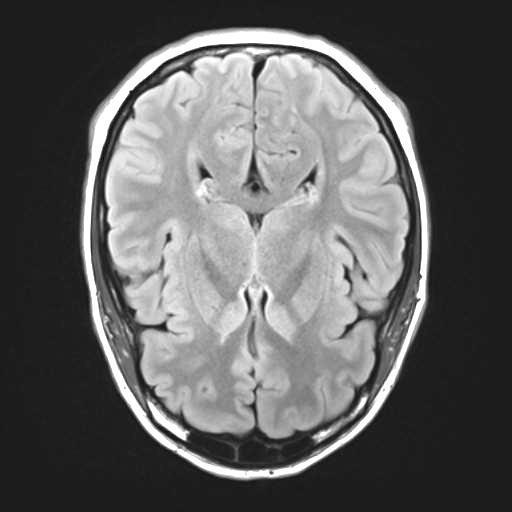Normal_Brain: (32, 1, 483, 509)
